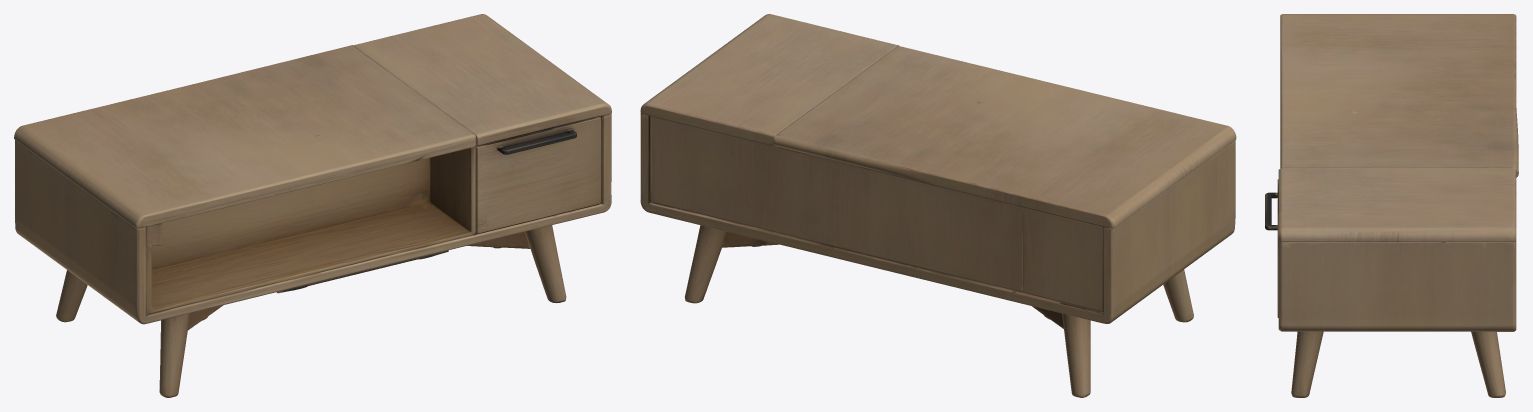
File: coffee-real-castlery-seb-lift-top-large-closed.glb
3 renders of one model, left to right at view 1: azimuth 30°, elevation 25°; view 2: azimuth 150°, elevation 25°; view 3: azimuth 270°, elevation 25°, orthographic. The views are drawn at different scales.
Parts seen in each view (by area): view 1: node_0; view 2: node_0; view 3: node_0.
Boxes of the visible parts, bbox=[...] form: node_0: bbox=[14, 14, 611, 397]; node_0: bbox=[640, 14, 1236, 397]; node_0: bbox=[1265, 14, 1518, 397].
Bounding box in the file's own units: 1.03 × 0.4053 × 0.5026.
Materials: 1 (1 with a texture image).
